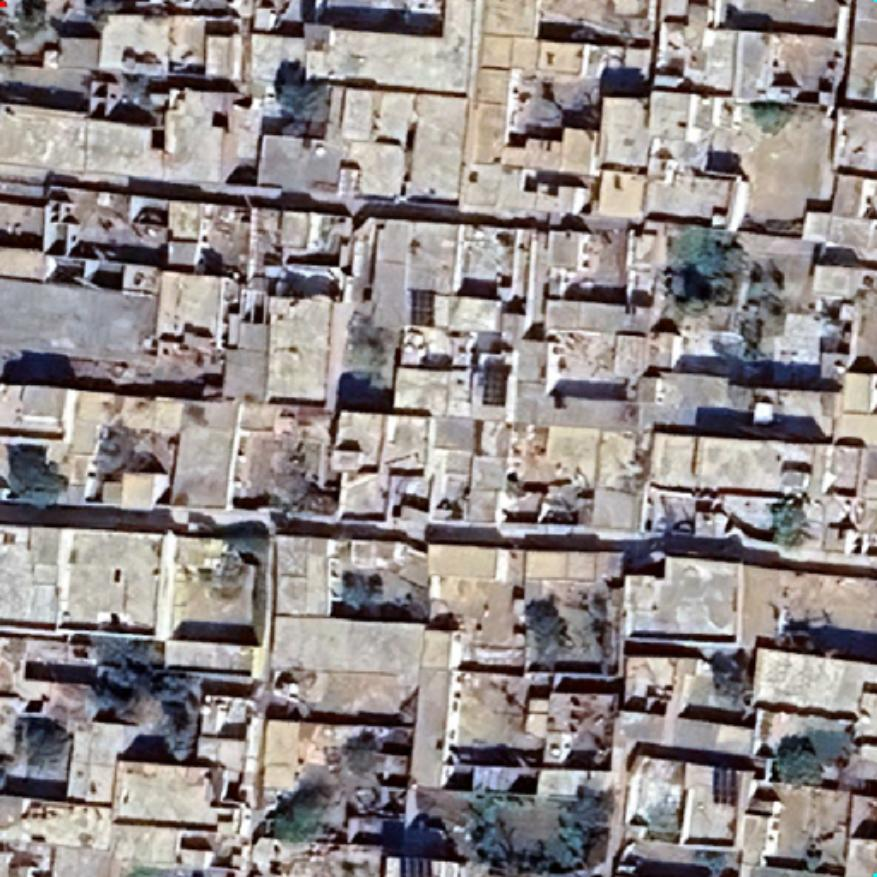Solarpanel: (479, 360, 513, 408), (708, 762, 742, 810), (406, 284, 438, 330)
